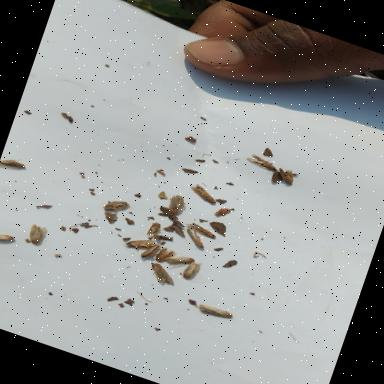pbw: (194, 300, 236, 324), (144, 261, 180, 289), (123, 232, 160, 258), (177, 256, 209, 286), (186, 182, 221, 207), (164, 248, 196, 273), (184, 218, 220, 240), (244, 150, 280, 172), (180, 226, 210, 250), (24, 221, 50, 248), (101, 194, 131, 217), (138, 239, 164, 264), (152, 242, 178, 266), (164, 192, 188, 216), (1, 155, 26, 174), (274, 167, 298, 186), (0, 224, 15, 249), (146, 220, 162, 241)
